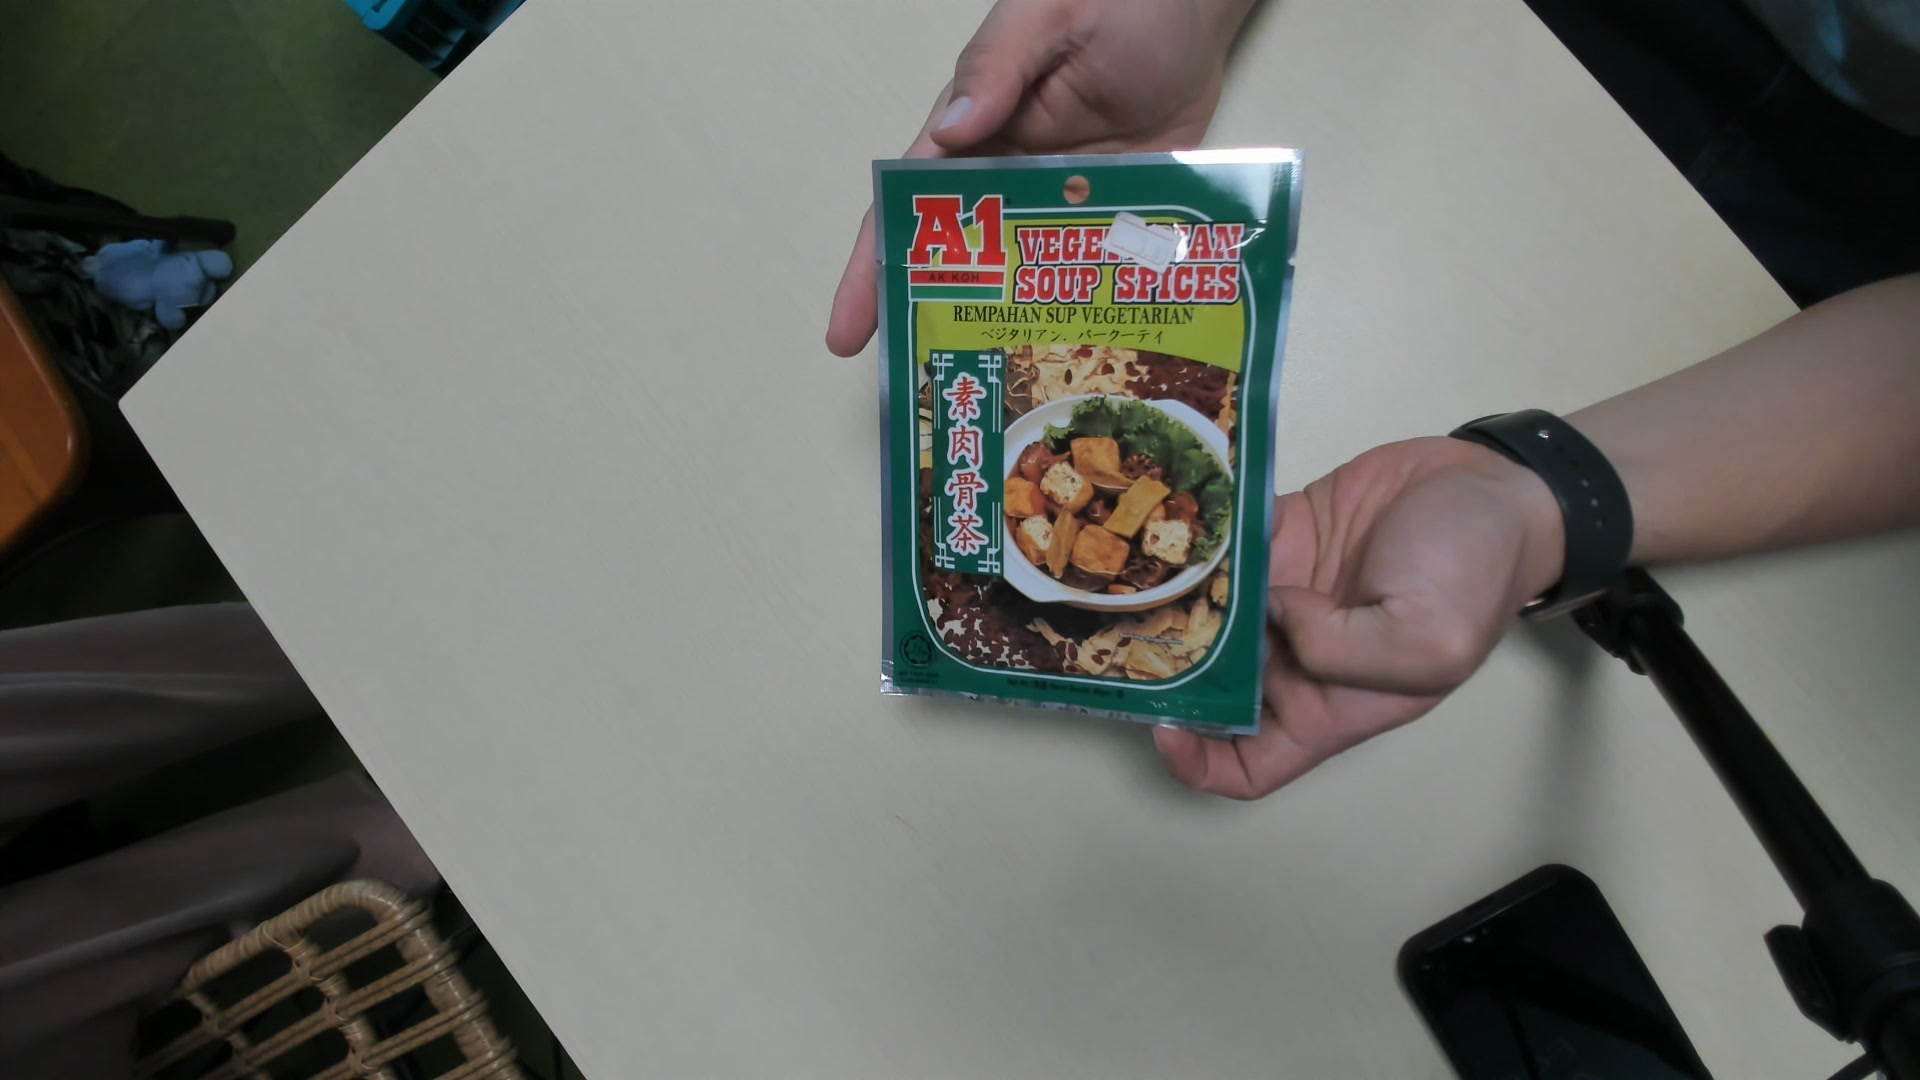OtherSauceDressing_0-99g_NonHalal_NonHealthy: (865, 156, 1288, 741)
